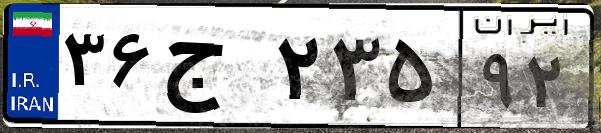2: (270, 28, 330, 110), (525, 38, 570, 115)
3: (330, 28, 385, 110), (57, 26, 110, 100)
5: (385, 28, 445, 110)
6: (110, 28, 158, 98)
9: (475, 38, 525, 113)
ج: (158, 20, 270, 120)
